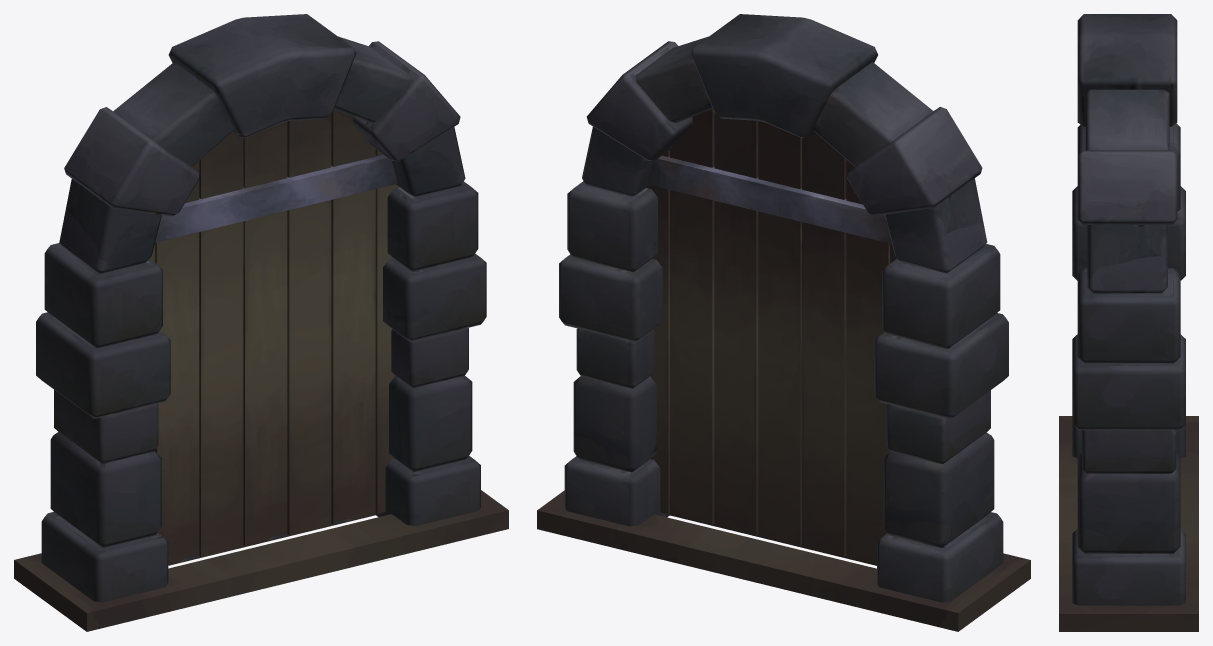
File: SM_Doorway.fbx
The picture shows the model from 3 angles, left to right: view 1: azimuth 30°, elevation 25°; view 2: azimuth 150°, elevation 25°; view 3: azimuth 270°, elevation 25°; orthographic projection. The views are drawn at different scales.
Visible parts, largest first — view 1: SM_Archway, SM_DoorBottom; view 2: SM_Archway, SM_DoorBottom; view 3: SM_Archway.
Part boxes in pixels (x1=…): SM_Archway: x1=14, y1=14, x2=508, y2=631; SM_DoorBottom: x1=150, y1=155, x2=399, y2=564; SM_Archway: x1=537, y1=14, x2=1030, y2=631; SM_DoorBottom: x1=646, y1=155, x2=896, y2=564; SM_Archway: x1=1059, y1=14, x2=1198, y2=631.
Bounding box in the file's own units: 1358 × 1597 × 406.
